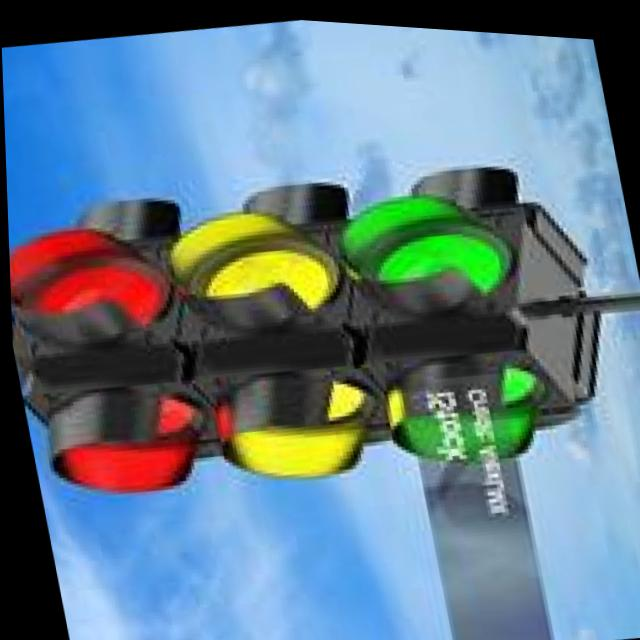green_light: (357, 288, 603, 563), (317, 124, 521, 353)
red_light: (13, 336, 228, 590), (4, 132, 175, 368)
yellow_light: (181, 305, 401, 594), (159, 171, 347, 365)
